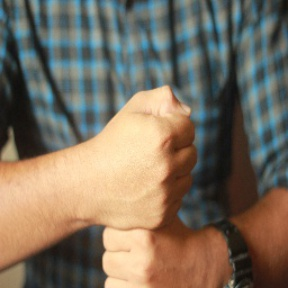G: (87, 84, 206, 288)
